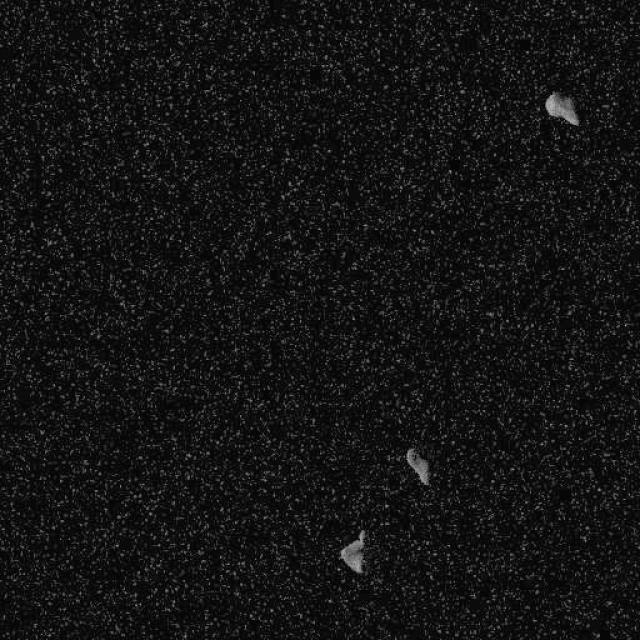D2: (338, 528, 368, 574), (544, 90, 580, 126), (404, 446, 431, 486)
